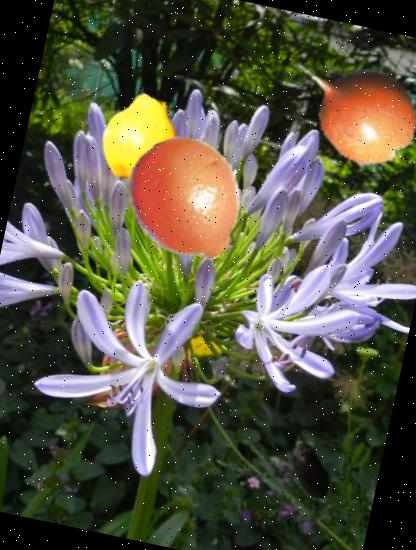Eggplant: (266, 428, 350, 510)
Granadilla: (274, 19, 416, 185)
Quince: (86, 85, 195, 194)
Tangelo: (110, 126, 262, 278)
